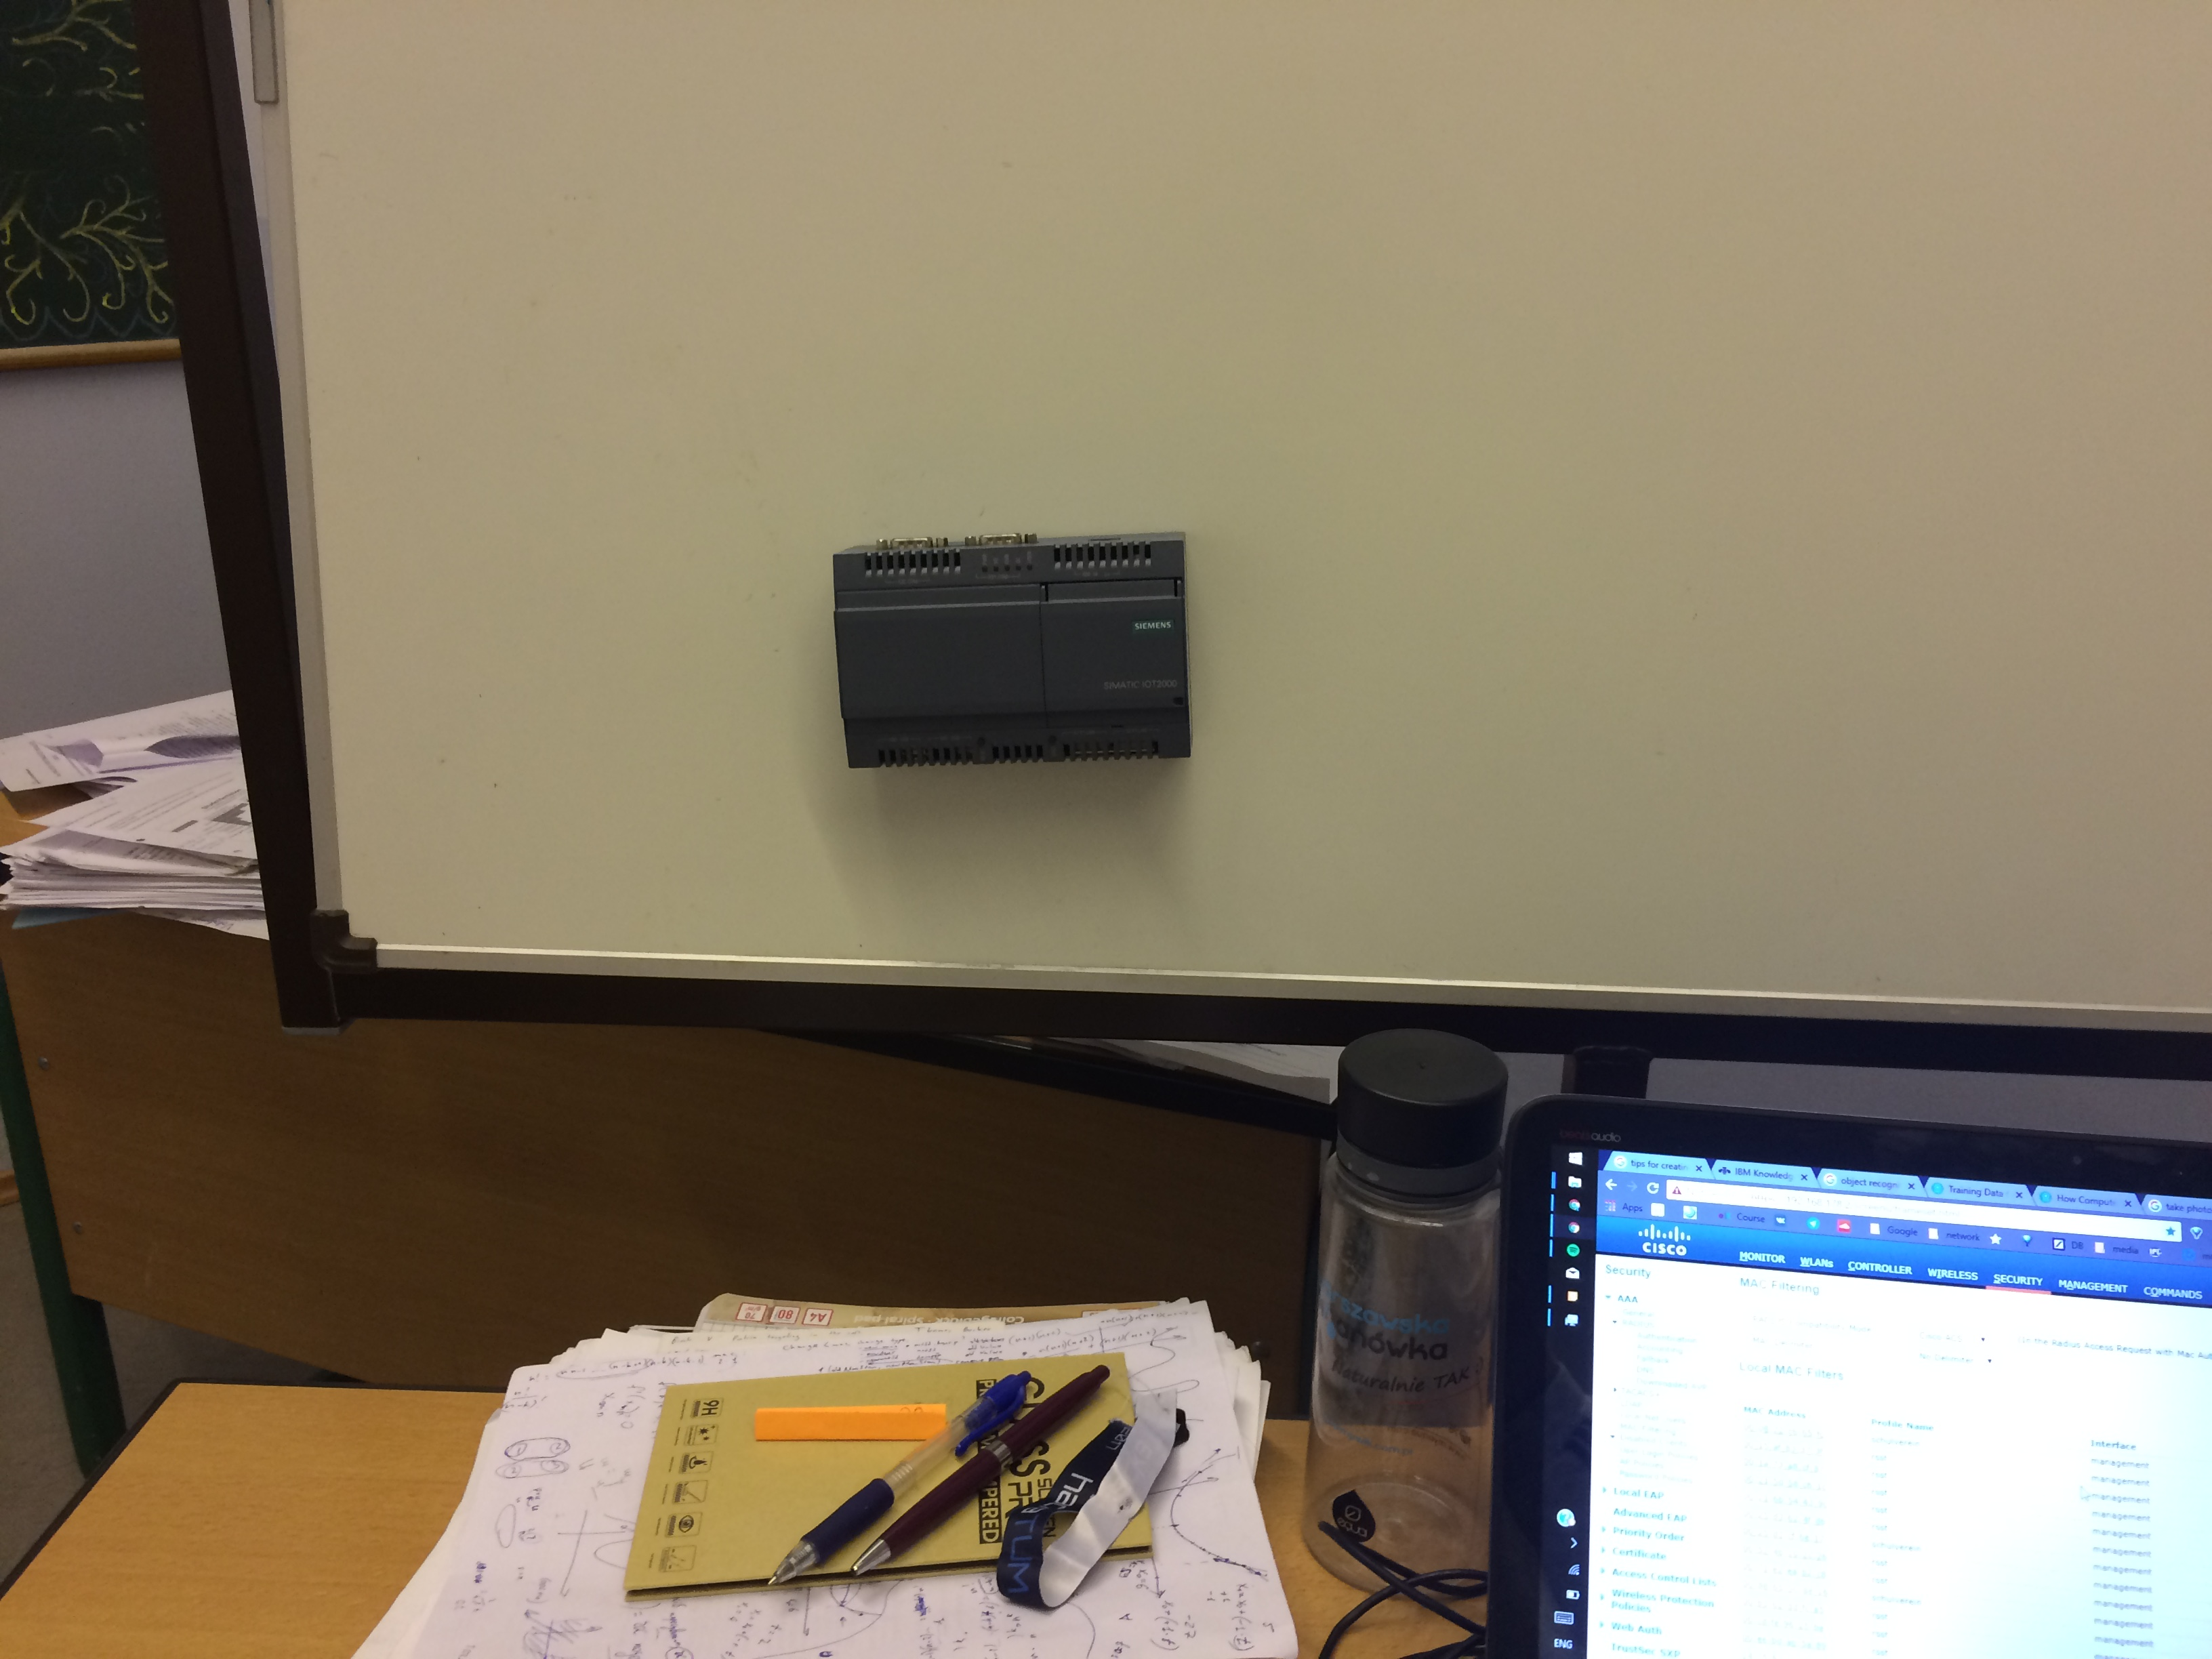iot2000: (827, 526, 1198, 774)
